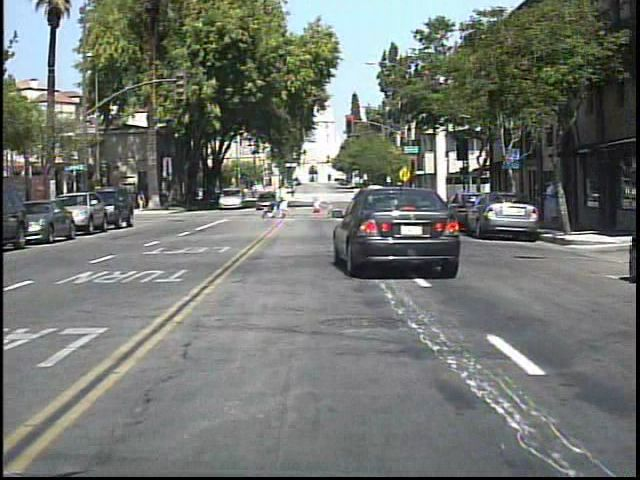car: (336, 174, 462, 284), (467, 193, 544, 239), (64, 186, 111, 237), (24, 192, 71, 243), (218, 187, 244, 211)
